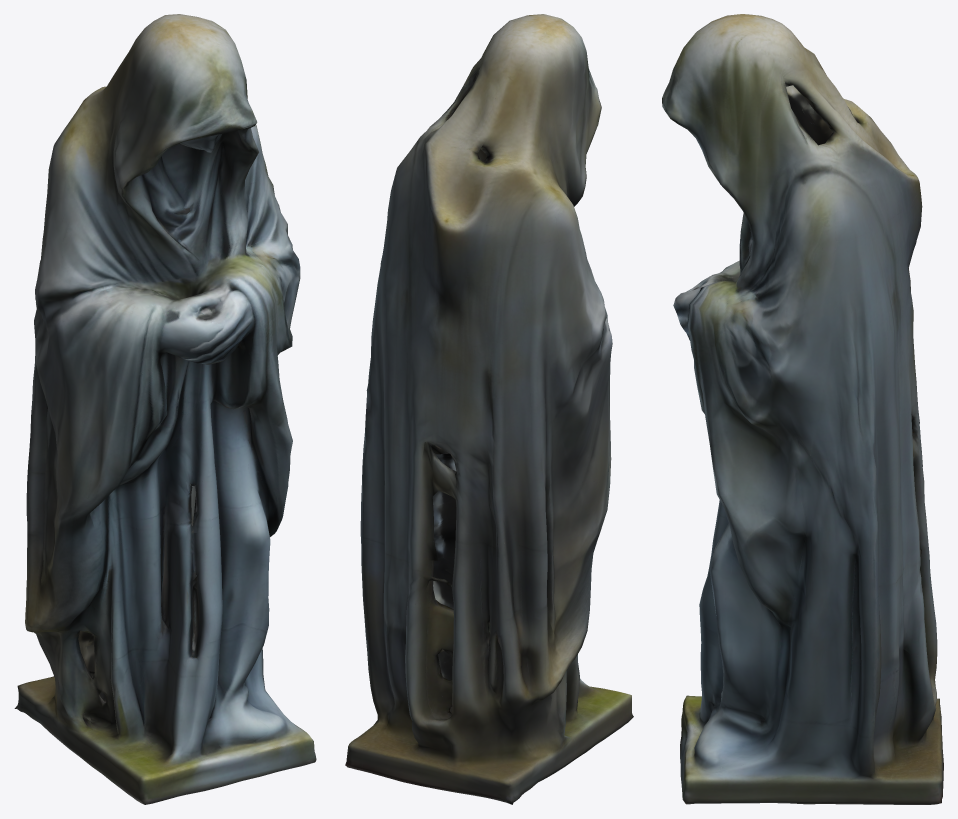
The model's file is Jumpscare_Statue.fbx.
The picture shows the model from 3 angles, left to right: view 1: azimuth 30°, elevation 25°; view 2: azimuth 150°, elevation 25°; view 3: azimuth 270°, elevation 25°; orthographic projection. The views are drawn at different scales.
Visible parts, largest first — view 1: Mesh_0; view 2: Mesh_0; view 3: Mesh_0.
Boxes of the visible parts, <box> form: Mesh_0: <box>14,14,316,804</box>; Mesh_0: <box>345,14,633,804</box>; Mesh_0: <box>662,14,943,804</box>.
Size of the model in its own units: 67.38 by 200 by 69.47.
1 material, 1 textured.
